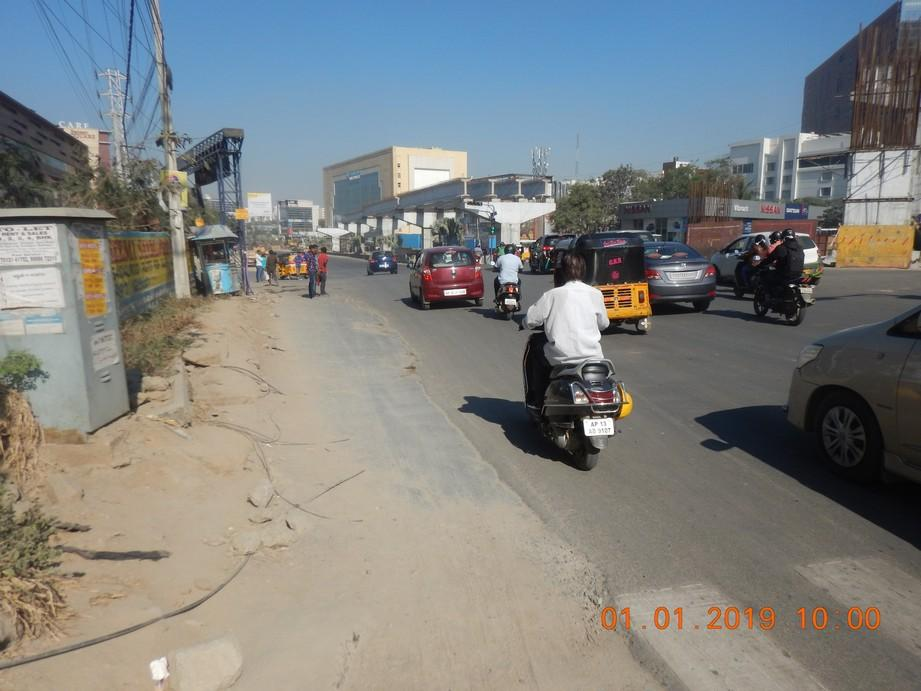plate: (583, 419, 617, 436)
